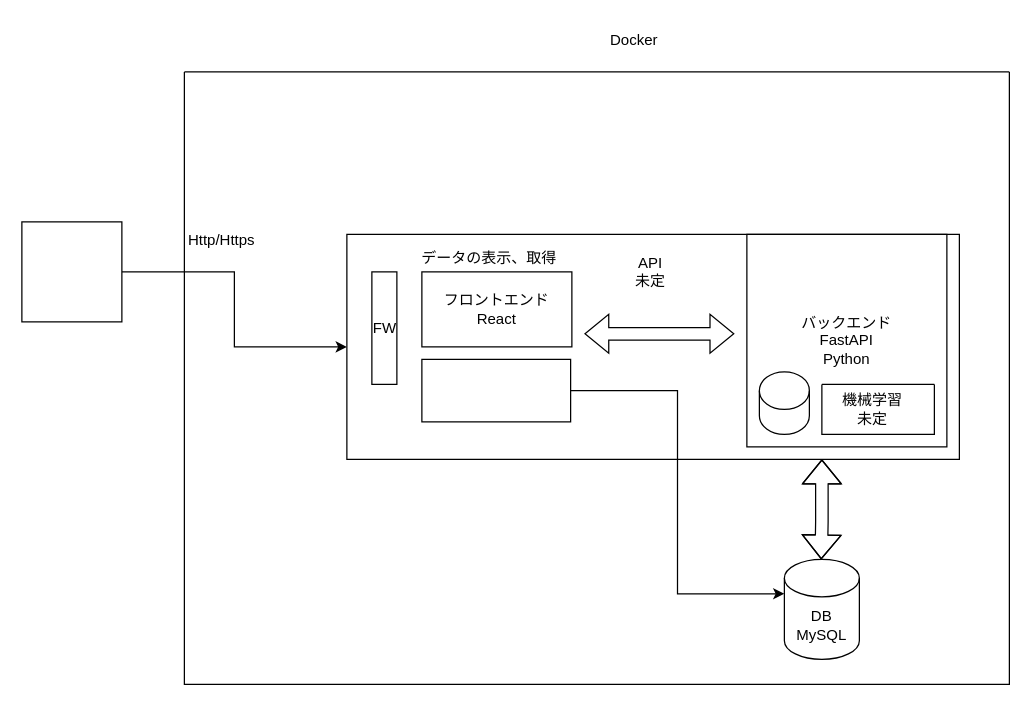
The diagram is 1031 pixels wide and 706 high, and some of its shapes have lost their labels. Here are the shapes that lost their labels. From the top down, the centre of each, then its label:
At [71,271]: "クライアント".
At [496,390]: "クローリング Python".
At [783,402]: "モデル".
